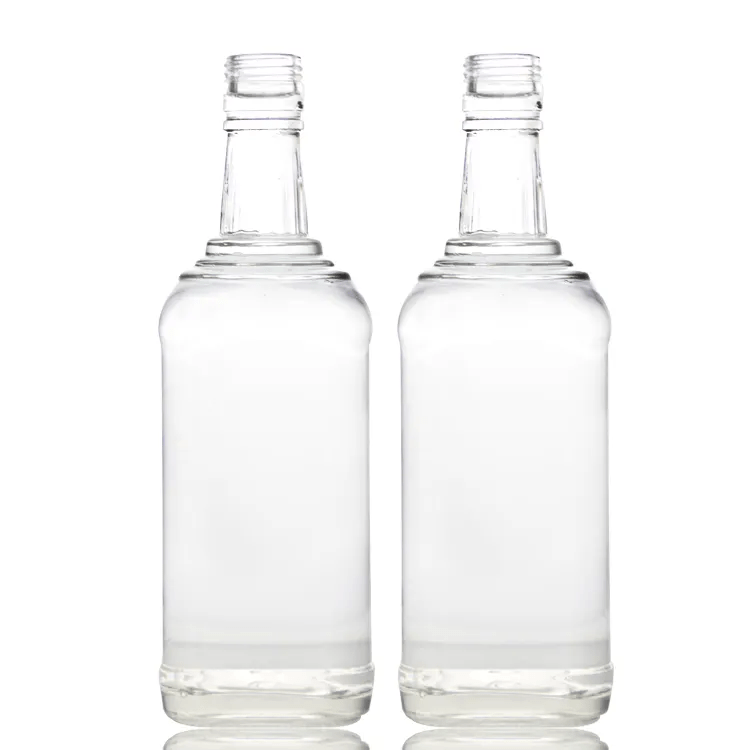glass_bottle: (142, 42, 385, 737), (393, 43, 627, 741)
